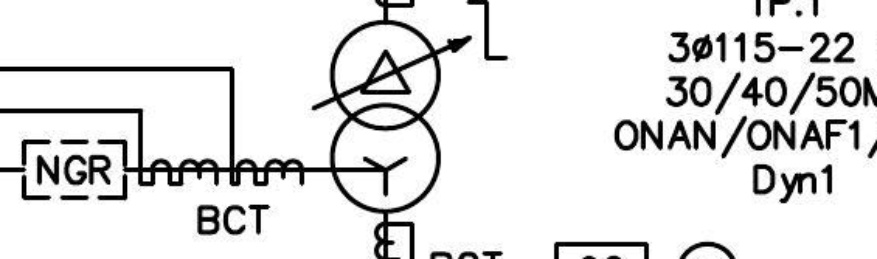11522_tx_dyn1: (329, 19, 442, 215)
